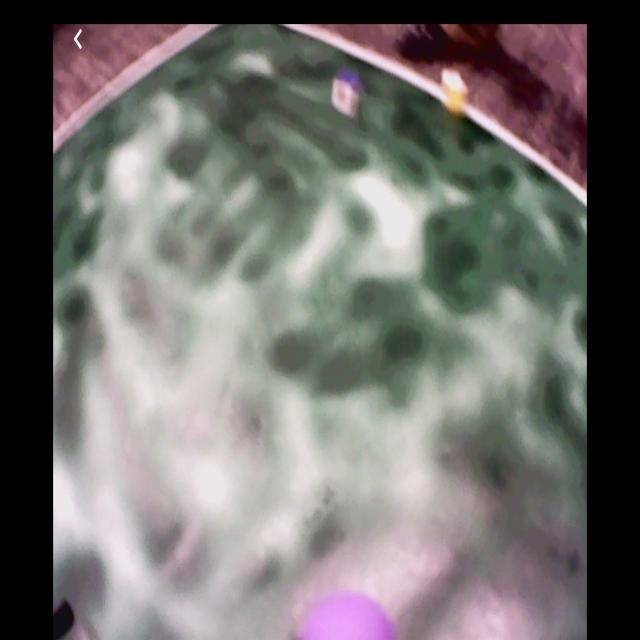ball: (297, 588, 397, 640)
